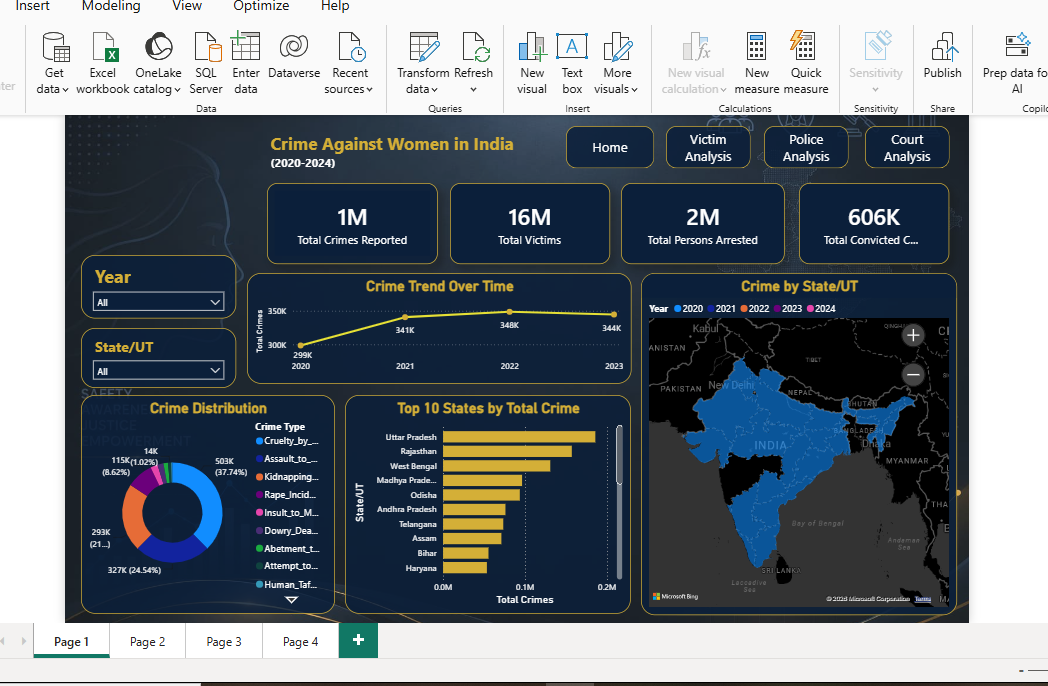

Layout of this report page (visuals, bound fields, positions):
{"tool":"powerbi","page":{"name":"Page 1","canvas":[1280,720],"ordinal":0},"visuals":[{"type":"textbox","box":[286.3,15.6,399.7,104.9],"z":0},{"type":"cardVisual","fields":{"Data":["Acts_Data.Total Crimes"]},"box":[286.3,96.4,242.4,114.8],"z":2000},{"type":"cardVisual","fields":{"Data":["Acts_Data.Total Victims"]},"box":[545.7,96.4,226.8,114.8],"z":3000},{"type":"cardVisual","fields":{"Data":["Acts_Data.Total Arrested"]},"box":[788,96.4,232.4,114.8],"z":4000},{"type":"cardVisual","fields":{"Data":["Acts_Data.Total Convicted"]},"box":[1040.3,96.4,212.6,114.8],"z":5000},{"type":"slicer","fields":{"Values":["Acts_Data.Year"]},"box":[22,198.1,220.1,89.7],"z":6000},{"type":"slicer","fields":{"Values":["Dim_State.State/UT"]},"box":[22,301.4,220.1,84.7],"z":7000},{"type":"shape","box":[710,15,125,60],"z":8000},{"type":"shape","box":[851.7,15,120,60],"z":9000},{"type":"shape","box":[990,15,120,60],"z":10000},{"type":"shape","box":[1133.3,15,120,60],"z":11000},{"type":"lineChart","title":"Crime Trend Over Time","fields":{"Category":["Dim_Year.Year"],"Y":["Acts_Data.Total Crimes"]},"box":[257.4,223.5,545.2,157.5],"z":12000},{"type":"filledMap","title":"Crime by State/UT","fields":{"Category":["Dim_State.State/UT"],"Series":["Dim_Year.Year"]},"box":[816.7,223.3,448.3,485],"z":13000},{"type":"donutChart","title":"Crime Distribution","fields":{"Category":["Crime_Data.Crime Type"],"Y":["Sum(Crime_Data.Incidence)"]},"box":[22.7,396.9,360,310.4],"z":14000},{"type":"clusteredBarChart","title":"Top 10 States by Total Crime","fields":{"Category":["Dim_State.State/UT"],"Y":["Acts_Data.Total Crimes"]},"box":[396.9,396.9,405.4,310.4],"z":15000}]}

Visuals, with their boxes on the page's 1280x720 design canvas (x1, y1, x2, y2). These are canvas units, not pixel positions in the 1048x686 screenshot, which may show the page scaled, cropped or inside an application window:
textbox: left=286, top=16, right=686, bottom=120
cardVisual - Acts_Data.Total Crimes: left=286, top=96, right=529, bottom=211
cardVisual - Acts_Data.Total Victims: left=546, top=96, right=772, bottom=211
cardVisual - Acts_Data.Total Arrested: left=788, top=96, right=1020, bottom=211
cardVisual - Acts_Data.Total Convicted: left=1040, top=96, right=1253, bottom=211
slicer - Acts_Data.Year: left=22, top=198, right=242, bottom=288
slicer - Dim_State.State/UT: left=22, top=301, right=242, bottom=386
shape: left=710, top=15, right=835, bottom=75
shape: left=852, top=15, right=972, bottom=75
shape: left=990, top=15, right=1110, bottom=75
shape: left=1133, top=15, right=1253, bottom=75
"Crime Trend Over Time" lineChart: left=257, top=224, right=803, bottom=381
"Crime by State/UT" filledMap: left=817, top=223, right=1265, bottom=708
"Crime Distribution" donutChart: left=23, top=397, right=383, bottom=707
"Top 10 States by Total Crime" clusteredBarChart: left=397, top=397, right=802, bottom=707
